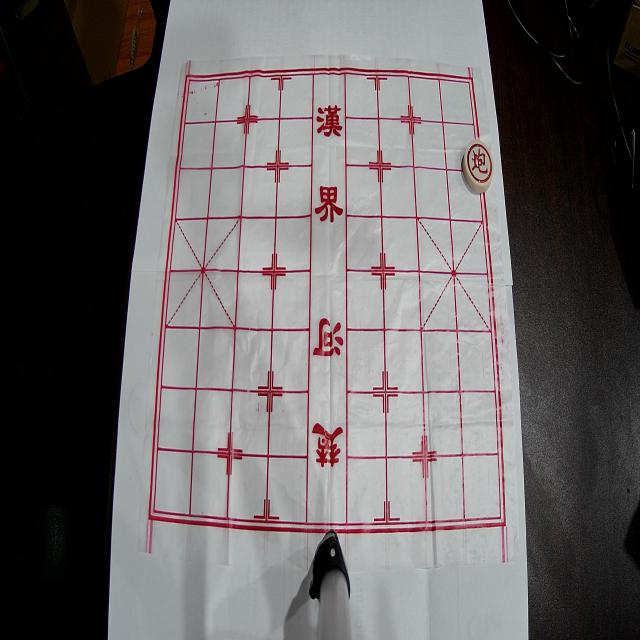red-cannon: (463, 139, 494, 193)
